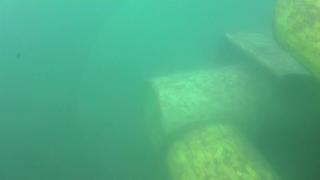pipe: (137, 66, 264, 150), (162, 121, 278, 180), (270, 1, 320, 88)
station: (221, 30, 320, 149)
